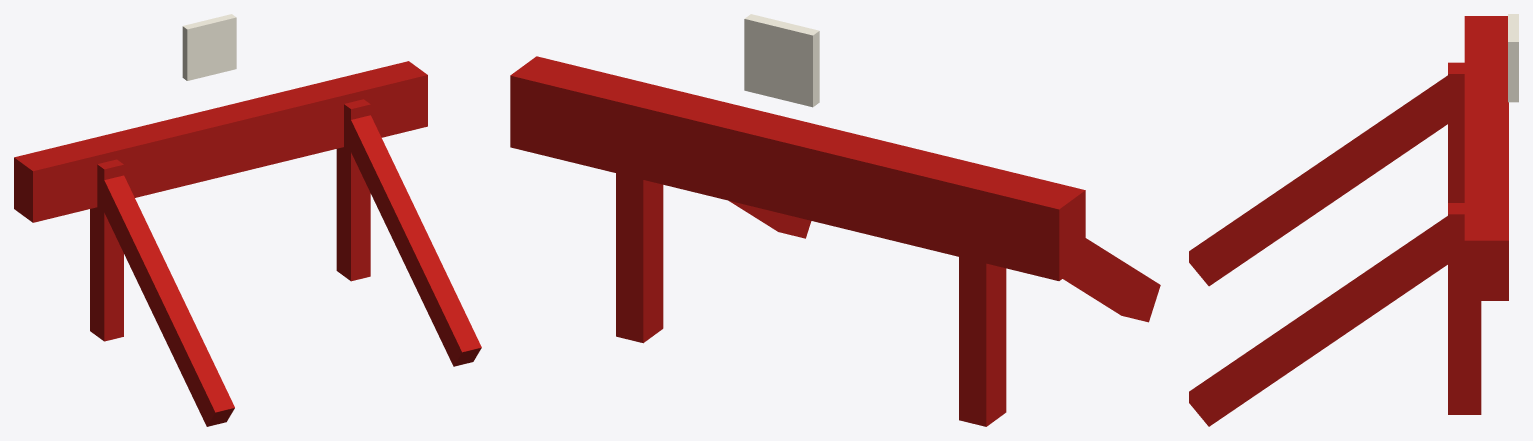
Rendered from rail.feature.buffer.glb.
3 renders of one model, left to right at view 1: azimuth 30°, elevation 25°; view 2: azimuth 150°, elevation 25°; view 3: azimuth 270°, elevation 25°, orthographic. The views are drawn at different scales.
Parts seen in each view (by area): view 1: main__hazard_red, main__light_emitter; view 2: main__hazard_red, main__light_emitter; view 3: main__hazard_red, main__light_emitter.
Boxes of the visible parts, bbox=[...] form: main__hazard_red: bbox=[14, 61, 481, 426]; main__light_emitter: bbox=[182, 14, 236, 80]; main__hazard_red: bbox=[510, 56, 1160, 426]; main__light_emitter: bbox=[744, 14, 819, 107]; main__hazard_red: bbox=[1189, 16, 1508, 426]; main__light_emitter: bbox=[1508, 14, 1518, 102].
Size of the model in its own units: 2.4 by 1.61 by 1.49.
